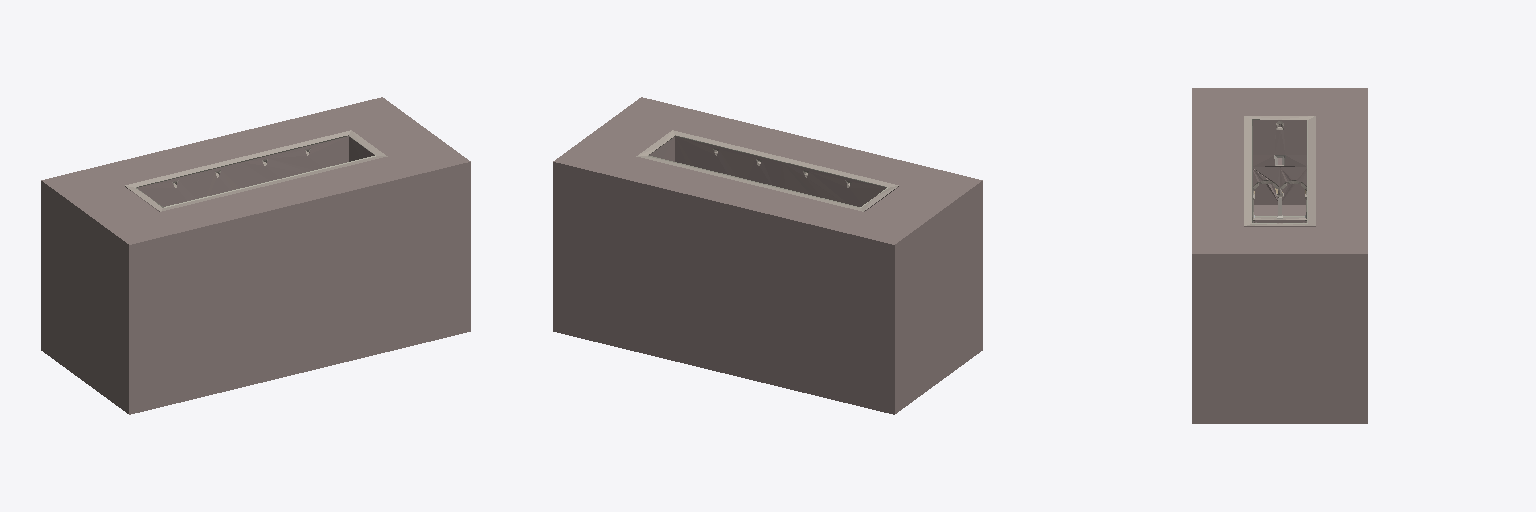
File: sponza_lod.obj
3 views of the same model, side by side, from view 1: azimuth 30°, elevation 25°; view 2: azimuth 150°, elevation 25°; view 3: azimuth 270°, elevation 25° (orthographic).
Parts seen in each view (by area): view 1: 18, 30, 20; view 2: 18, 30, 20; view 3: 18, 30, 20, 33, 34.
Part boxes in pixels (bbox=[...]): 18: bbox=[41, 97, 470, 414]; 30: bbox=[125, 136, 374, 211]; 20: bbox=[125, 130, 387, 211]; 18: bbox=[553, 97, 982, 414]; 30: bbox=[649, 136, 898, 211]; 20: bbox=[636, 130, 898, 211]; 18: bbox=[1192, 88, 1367, 423]; 30: bbox=[1244, 120, 1315, 226]; 20: bbox=[1244, 116, 1315, 225]; 33: bbox=[1254, 125, 1305, 204]; 34: bbox=[1254, 158, 1305, 215].
Bounding box in the file's own units: 34.82 × 16.56 × 15.6.